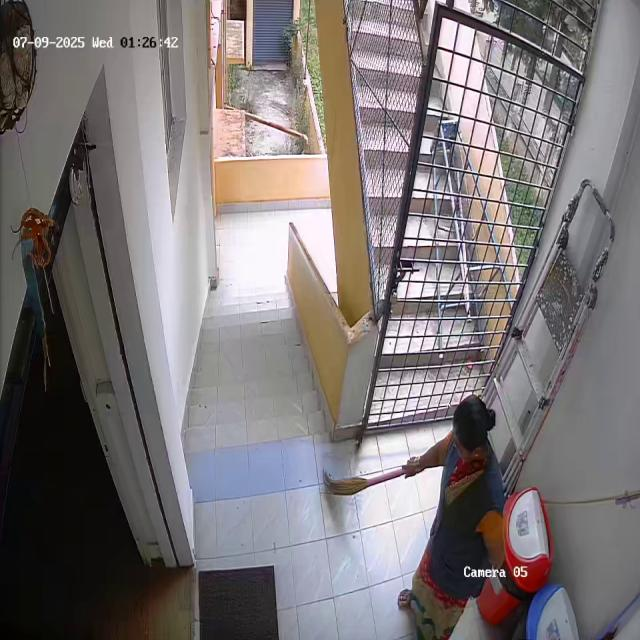person: (398, 392, 504, 640)
